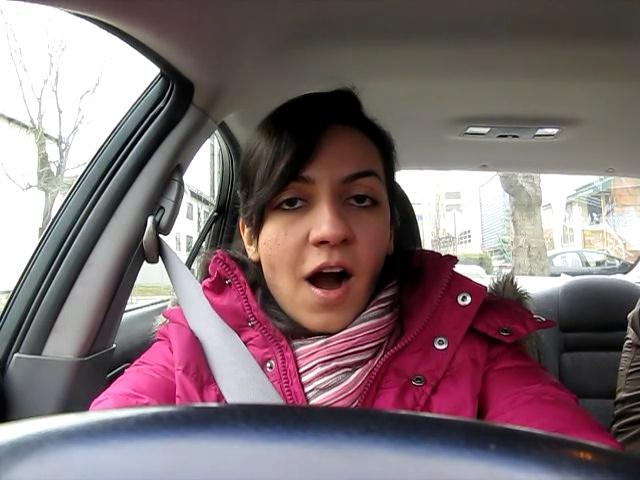close_eyeL: (263, 188, 322, 221)
close_eyeR: (331, 188, 394, 220)
yawn: (283, 256, 370, 304)
